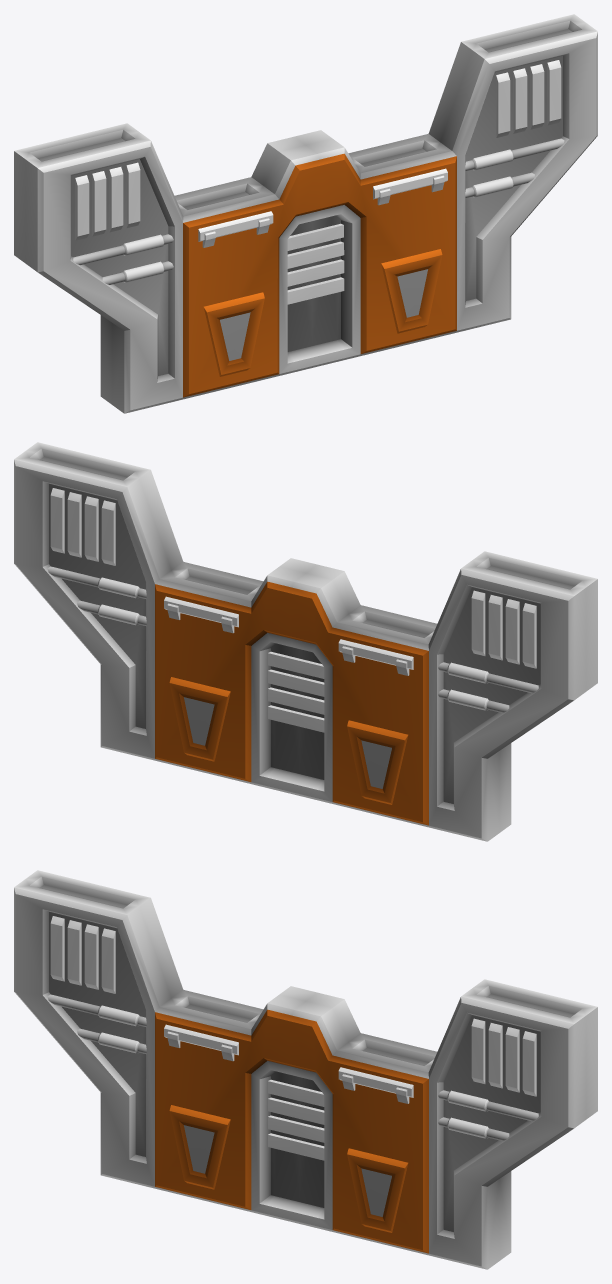
File: doorDouble_bottom.FBX
3 renders of one model, top to bottom at view 1: azimuth 30°, elevation 25°; view 2: azimuth 150°, elevation 25°; view 3: azimuth 330°, elevation 25°, orthographic.
Visible parts, largest first — view 1: doorDouble_bottom; view 2: doorDouble_bottom; view 3: doorDouble_bottom.
Part boxes in pixels (x1,y1,x2,y2): doorDouble_bottom: [14, 14, 597, 413]; doorDouble_bottom: [14, 442, 597, 841]; doorDouble_bottom: [14, 870, 597, 1269].
Bounding box in the file's own units: 2.9 × 1.32 × 0.3418.
